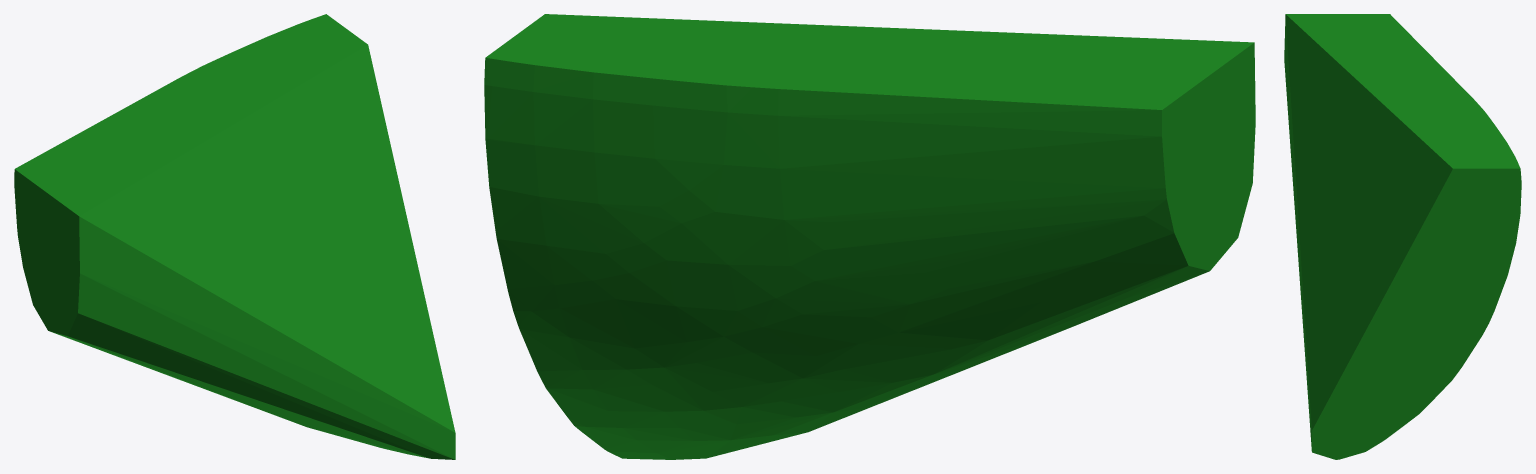
The picture shows the model from 3 angles, left to right: view 1: azimuth 30°, elevation 25°; view 2: azimuth 150°, elevation 25°; view 3: azimuth 270°, elevation 25°; orthographic projection. The views are drawn at different scales.
Size of the model in its own units: 0.0377 by 0.0331 by 0.0244.
